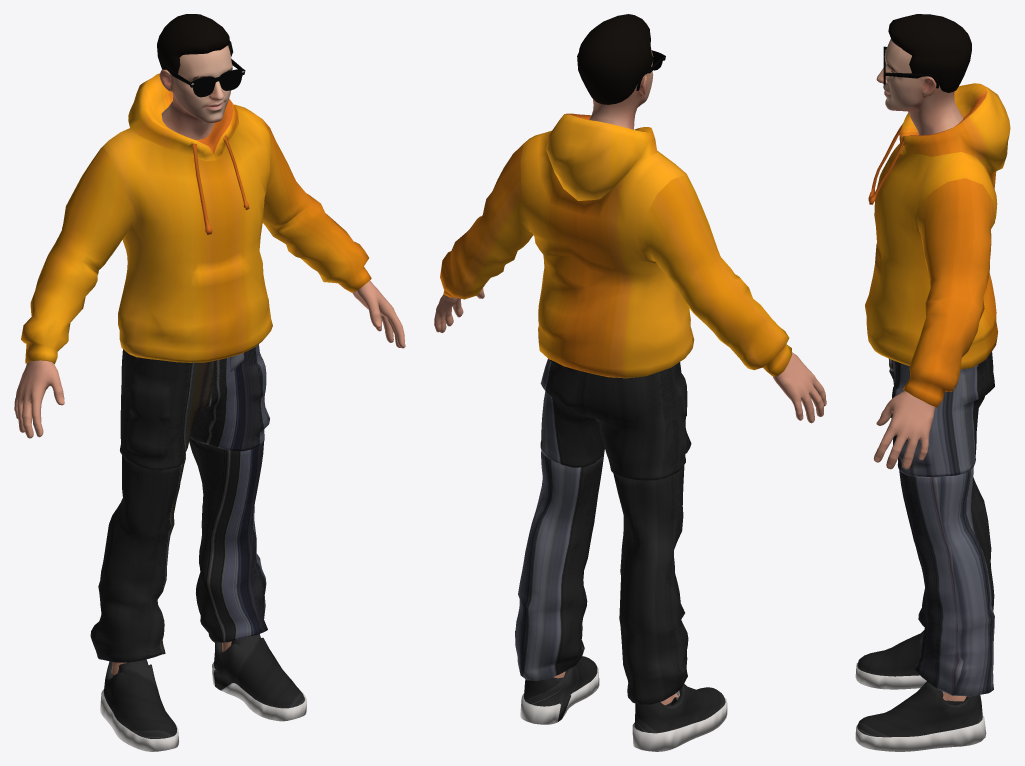
File: abizer2.fbx
3 views of the same model, side by side, from view 1: azimuth 30°, elevation 25°; view 2: azimuth 150°, elevation 25°; view 3: azimuth 270°, elevation 25° (orthographic).
Visible parts, largest first — view 1: Wolf3D_Outfit_Top, Wolf3D_Outfit_Bottom, Wolf3D_Outfit_Footwear, Wolf3D_Head, Wolf3D_Body, Wolf3D_Hair, Wolf3D_Glasses; view 2: Wolf3D_Outfit_Top, Wolf3D_Outfit_Bottom, Wolf3D_Outfit_Footwear, Wolf3D_Hair, Wolf3D_Body, Wolf3D_Head; view 3: Wolf3D_Outfit_Top, Wolf3D_Outfit_Bottom, Wolf3D_Outfit_Footwear, Wolf3D_Hair, Wolf3D_Head, Wolf3D_Body, Wolf3D_Glasses.
Boxes of the visible parts, x1,y1,x2,y2 form: Wolf3D_Outfit_Top: (21, 73, 371, 364); Wolf3D_Outfit_Bottom: (90, 344, 269, 662); Wolf3D_Outfit_Footwear: (100, 634, 306, 751); Wolf3D_Head: (159, 45, 232, 140); Wolf3D_Body: (14, 281, 405, 675); Wolf3D_Hair: (157, 14, 233, 73); Wolf3D_Glasses: (163, 59, 245, 97); Wolf3D_Outfit_Top: (440, 113, 791, 378); Wolf3D_Outfit_Bottom: (515, 359, 691, 704); Wolf3D_Outfit_Footwear: (520, 656, 727, 751); Wolf3D_Hair: (577, 14, 653, 104); Wolf3D_Body: (434, 288, 826, 705); Wolf3D_Head: (589, 48, 653, 129); Wolf3D_Outfit_Top: (865, 83, 1010, 407); Wolf3D_Outfit_Bottom: (889, 352, 994, 696); Wolf3D_Outfit_Footwear: (855, 630, 986, 751); Wolf3D_Hair: (888, 14, 971, 92); Wolf3D_Head: (876, 39, 962, 135); Wolf3D_Body: (873, 391, 966, 701); Wolf3D_Glasses: (883, 46, 939, 88).
Bounding box in the file's own units: 1.06 × 1.86 × 0.376.
9 materials, 9 textured.
